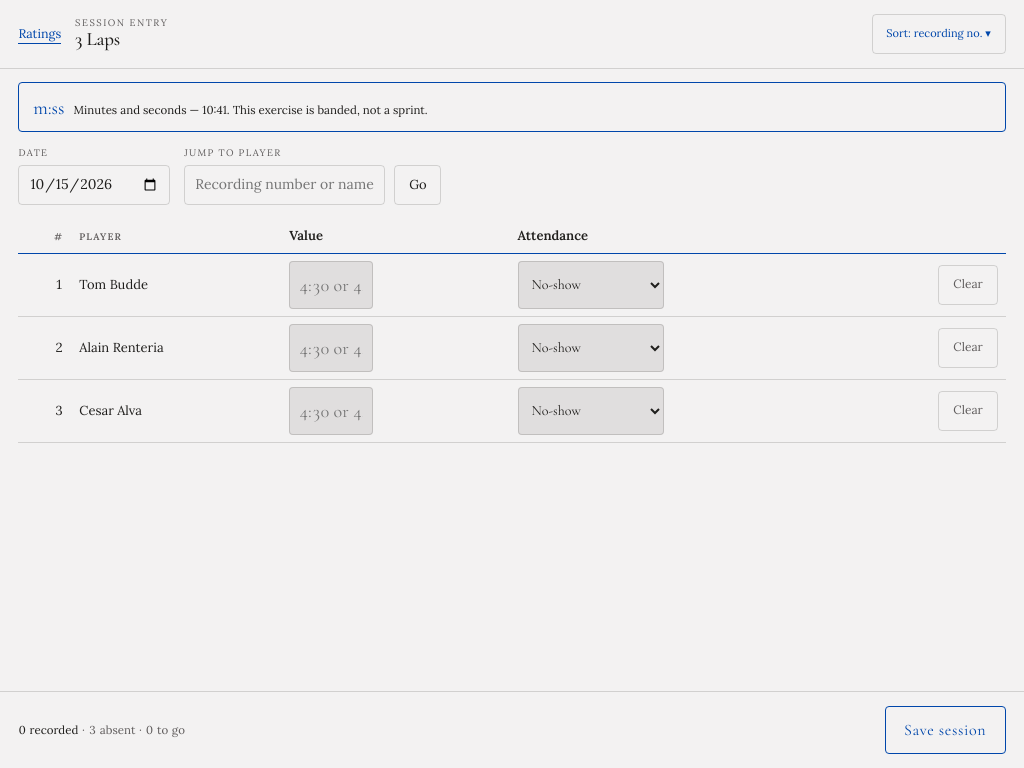
Test case: attendance follows what is typed › returns the row to the default when the value is cleared
In the field with placeholder "4:30 or 4.30" next to "Tom Budde": (331, 285) [289,261,373,309], type "4:10"
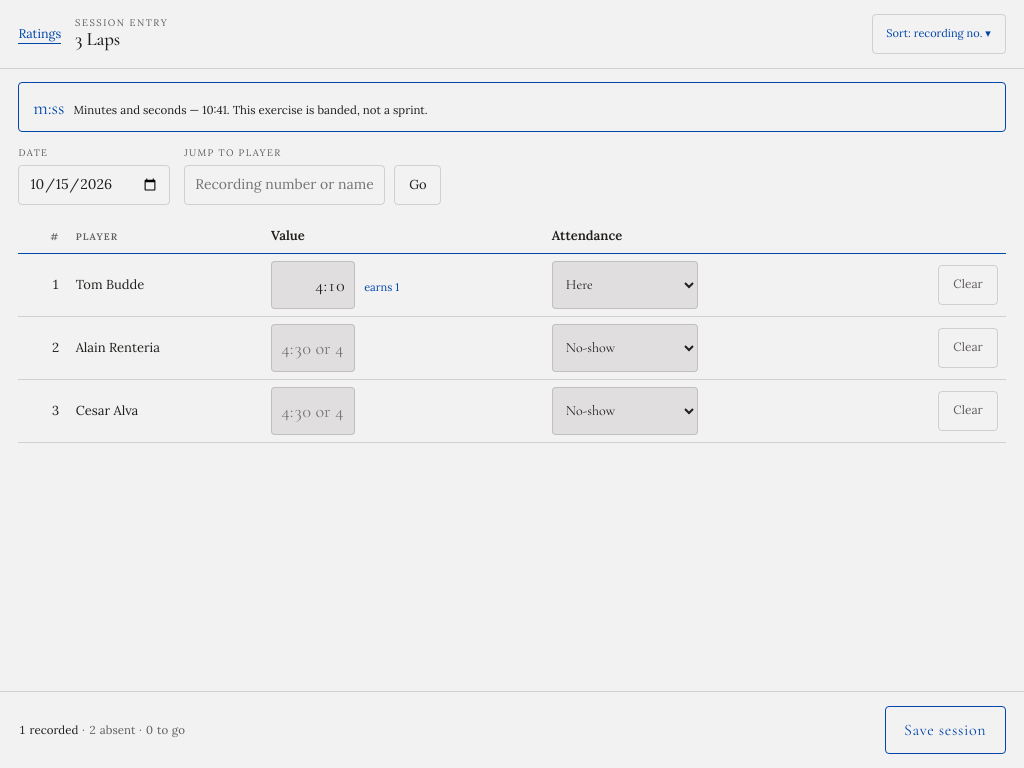
Clear the 2nd field: (313, 285) [271,261,355,309]
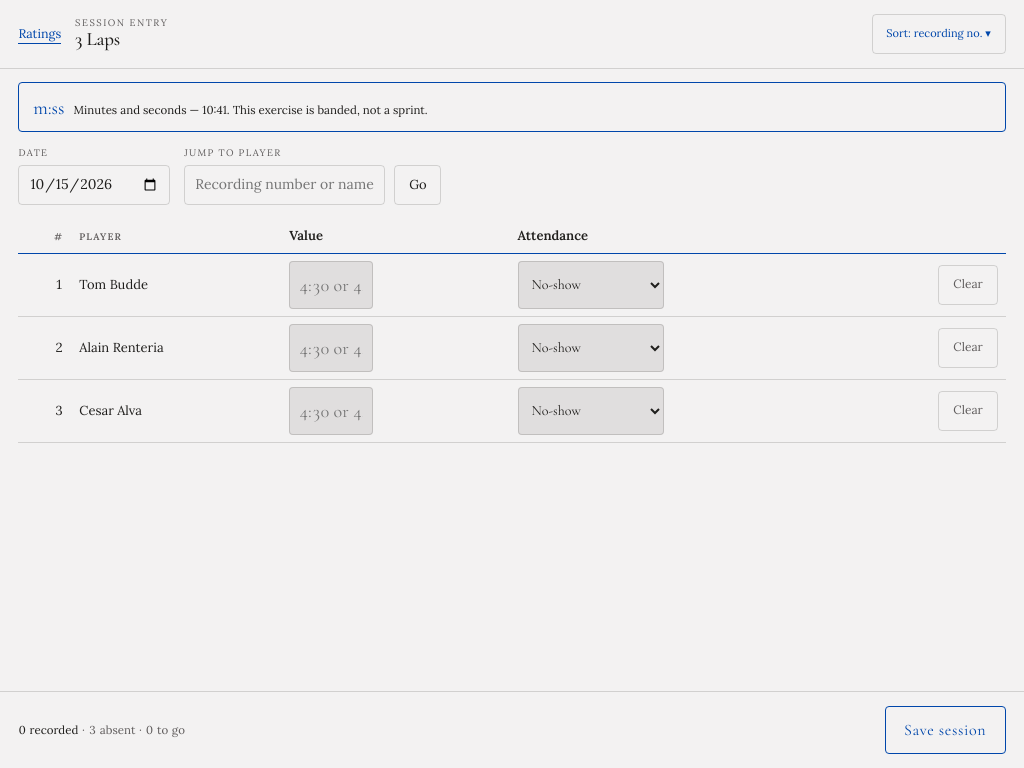
Expected: the dropdown in the row of "Tom Budde" shows "No-show", [518,261,664,309]
